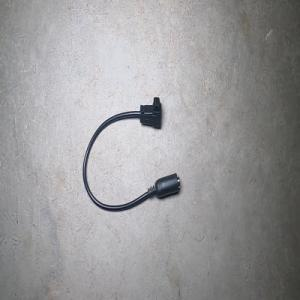Wire: (82, 96, 180, 212)
